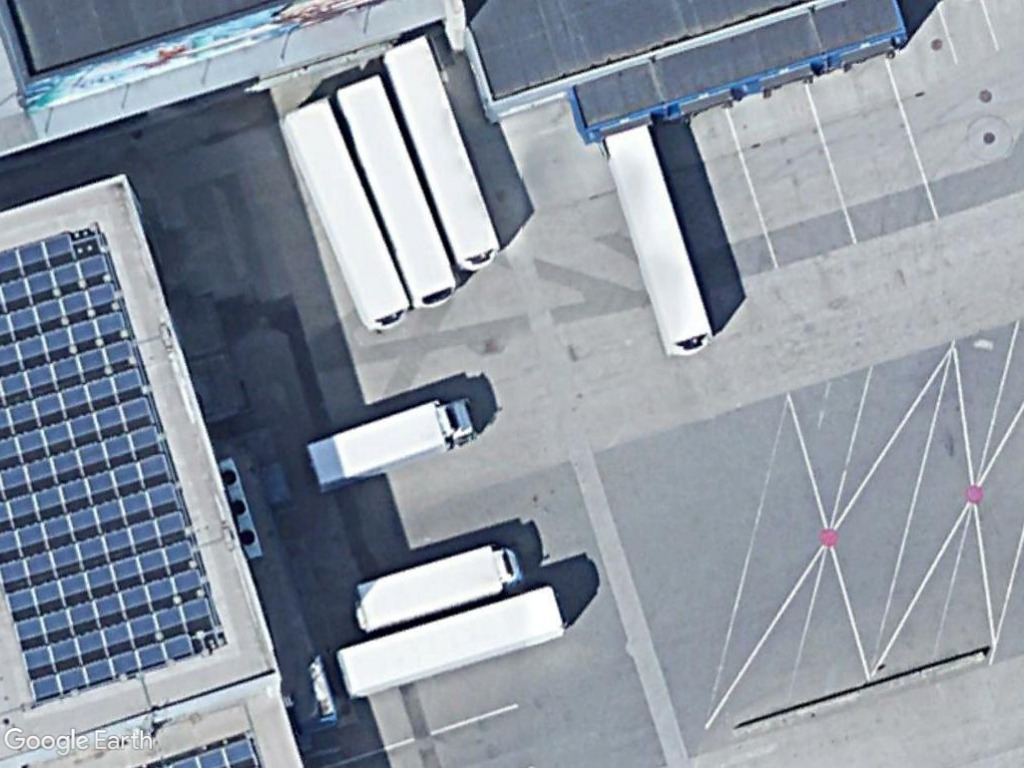truck: (342, 542, 531, 634), (304, 393, 479, 492)
